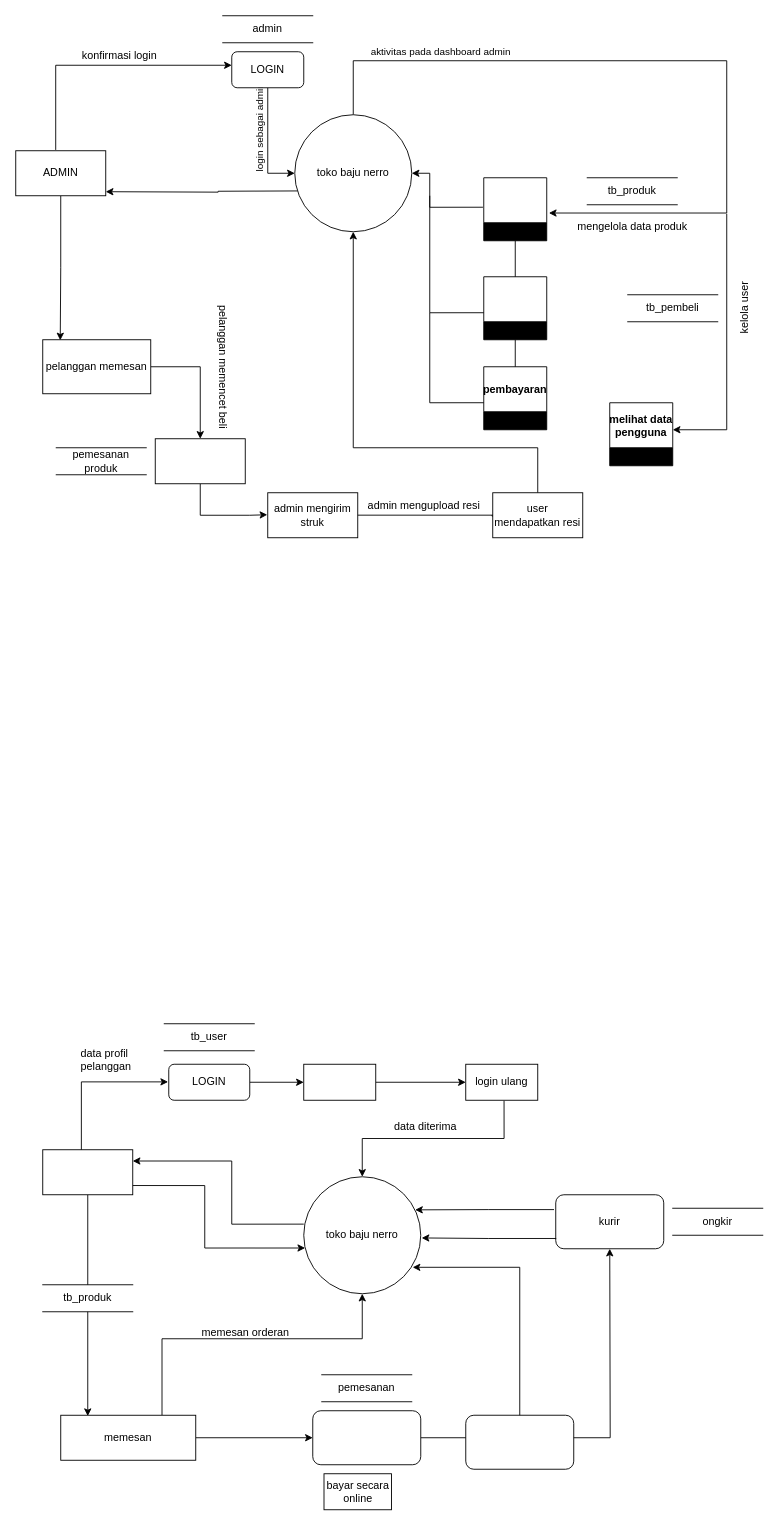
This 779x1526 diagram has some shape labels left out. Each missing label, with the box of its shape:
edit data: (483, 177, 547, 241)
hapus data: (483, 276, 547, 340)
mendapatkan struk dan resi dari admin: (465, 1414, 574, 1469)
metode pembayaran: (312, 1410, 421, 1465)
pembelian diproses: (154, 438, 245, 484)
USER: (42, 1149, 133, 1195)
verifikasi: (303, 1063, 376, 1100)
